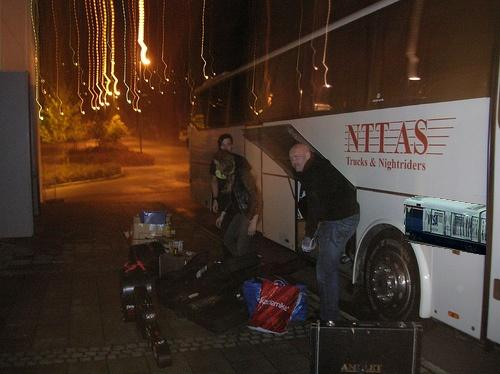tampered: (405, 196, 486, 255)
